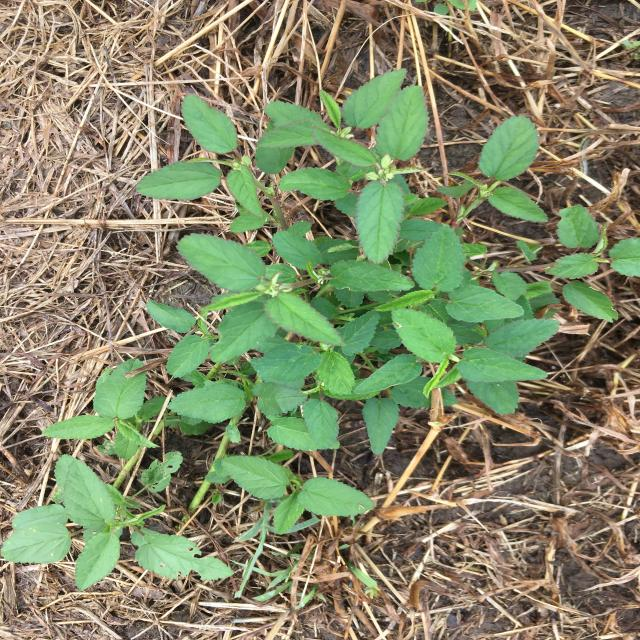PricklySida: (1, 68, 639, 591)
